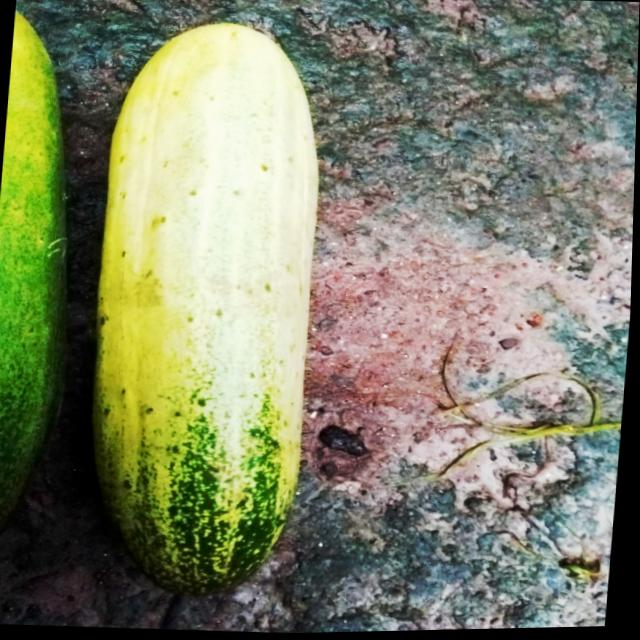Fresh-Cucumber: (75, 9, 341, 606), (0, 3, 88, 574)
